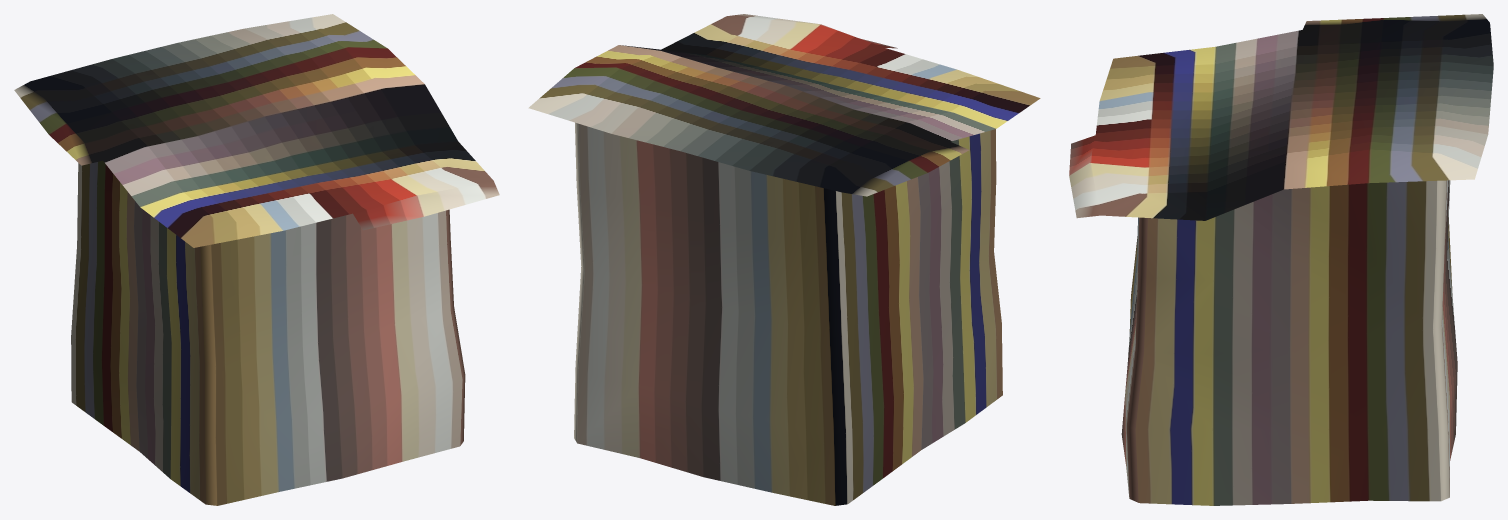
The model's file is MSH_Building_005.glb.
The picture shows the model from 3 angles, left to right: view 1: azimuth 30°, elevation 25°; view 2: azimuth 150°, elevation 25°; view 3: azimuth 270°, elevation 25°; orthographic projection. The views are drawn at different scales.
Visible parts, largest first — view 1: Base.015; view 2: Base.015; view 3: Base.015.
Boxes of the visible parts, left/top/right/bottom form: Base.015: left=14, top=14, right=499, bottom=505; Base.015: left=528, top=14, right=1040, bottom=505; Base.015: left=1069, top=14, right=1493, bottom=505.
Size of the model in its own units: 6.77 by 6.16 by 6.83.
Materials: 1 (1 with a texture image).
